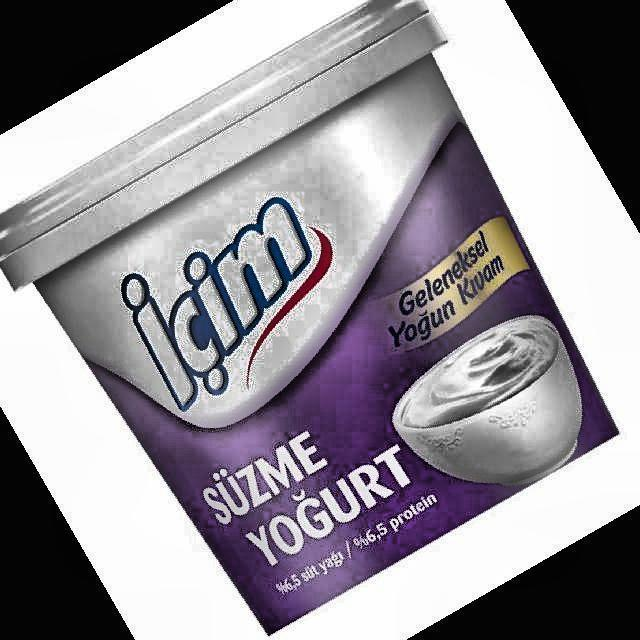plastic: (0, 0, 618, 634)
